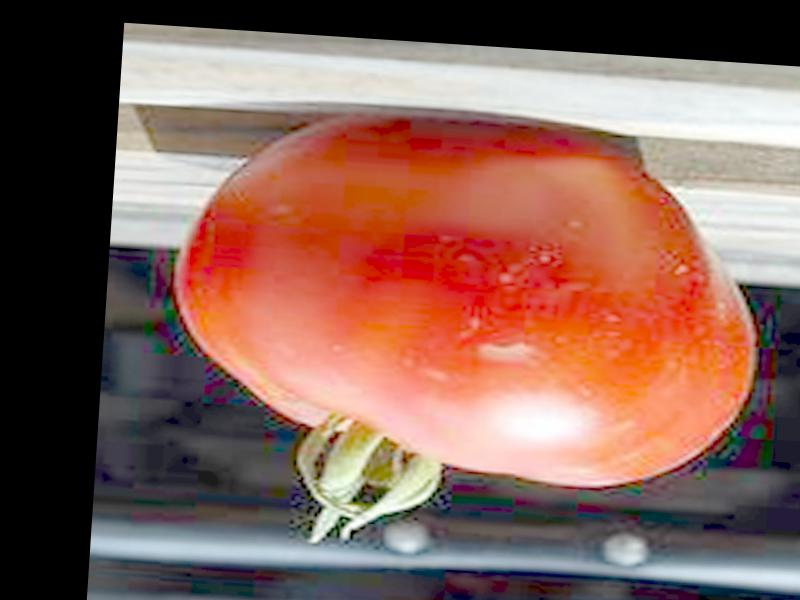Tomato: (162, 108, 766, 566)
